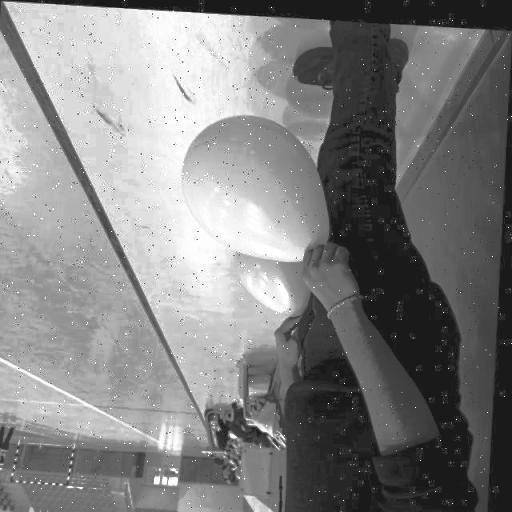balloon: (176, 108, 334, 258), (230, 249, 315, 313)
